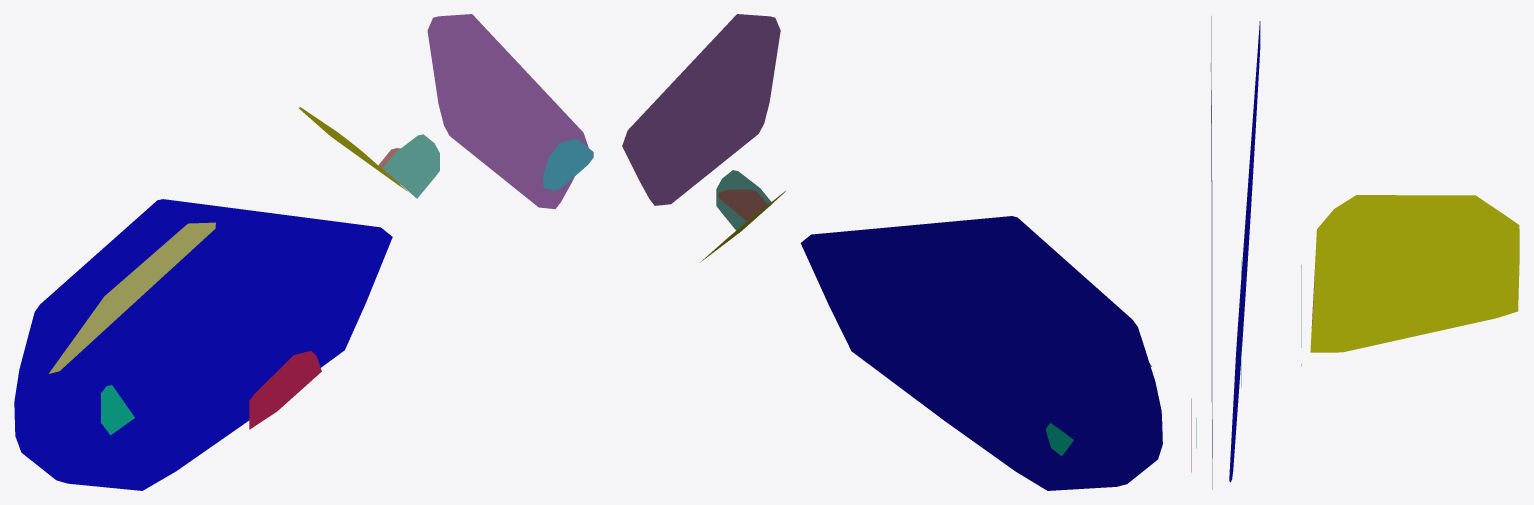
The model's file is room0_pr.glb.
3 views of the same model, side by side, from view 1: azimuth 30°, elevation 25°; view 2: azimuth 150°, elevation 25°; view 3: azimuth 270°, elevation 25° (orthographic). The views are drawn at different scales.
Visible parts, largest first — view 1: world; view 2: world; view 3: world.
Part boxes in pixels (x1,y1,x2,y2): world: (14, 14, 593, 490); world: (622, 14, 1162, 490); world: (1191, 16, 1519, 489).
Size of the model in its own units: 4.04 by 2.8 by 1.21.
